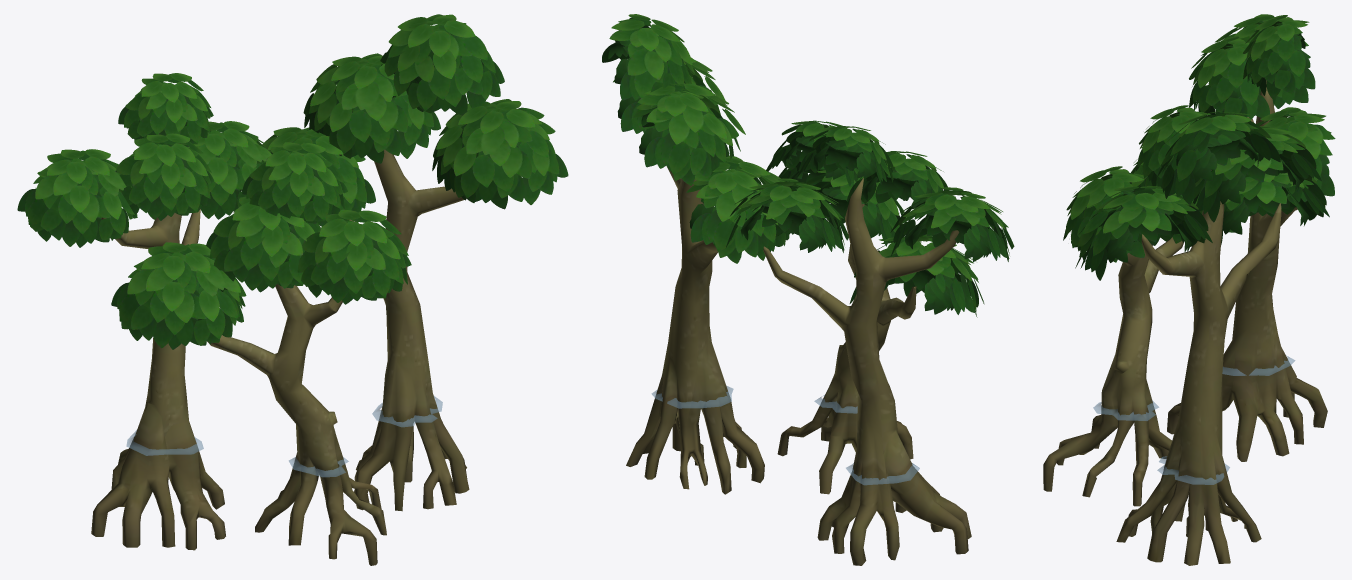
The model's file is mangroves.glb.
3 views of the same model, side by side, from view 1: azimuth 30°, elevation 25°; view 2: azimuth 150°, elevation 25°; view 3: azimuth 270°, elevation 25° (orthographic).
Bounding box in the file's own units: 60.47 × 56.41 × 33.
3 materials, 2 textured.
